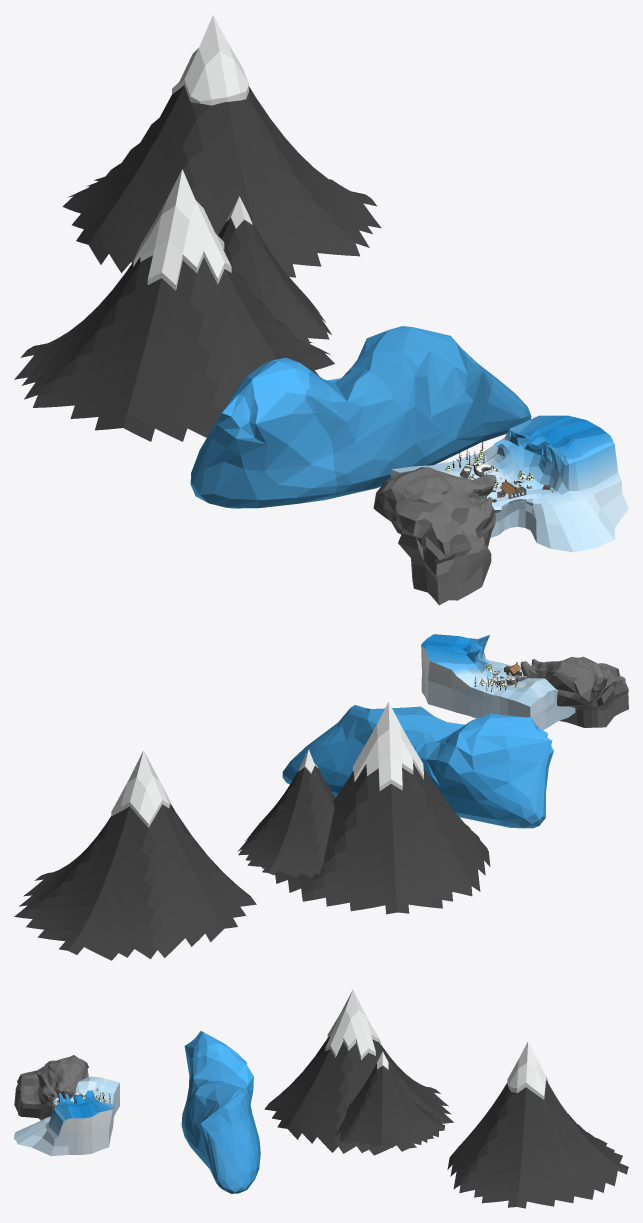
Rendered from SpawnRoom.obj.
The picture shows the model from 3 angles, top to bottom: view 1: azimuth 30°, elevation 25°; view 2: azimuth 150°, elevation 25°; view 3: azimuth 270°, elevation 25°; orthographic projection. The views are drawn at different scales.
Parts seen in each view (by area): view 1: Glacier_Cube.015, Mountain.002_Cube.014, Mountain_Cube.018, TerrainSnow_Level1.001, TerrainStone_Cube, Mountain.001_Cube.017; view 2: Mountain_Cube.018, Mountain.002_Cube.014, Glacier_Cube.015, TerrainSnow_Level1.001, Mountain.001_Cube.017, TerrainStone_Cube; view 3: Mountain_Cube.018, Mountain.002_Cube.014, Glacier_Cube.015, Mountain.001_Cube.017, TerrainSnow_Level1.001, TerrainStone_Cube.
Boxes of the visible parts, left/top/right/bottom form: Glacier_Cube.015: left=190, top=326, right=531, bottom=508; Mountain.002_Cube.014: left=14, top=169, right=334, bottom=441; Mountain_Cube.018: left=62, top=15, right=381, bottom=277; TerrainSnow_Level1.001: left=391, top=415, right=628, bottom=552; TerrainStone_Cube: left=373, top=467, right=496, bottom=605; Mountain.001_Cube.017: left=218, top=196, right=331, bottom=346; Mountain_Cube.018: left=14, top=750, right=256, bottom=960; Mountain.002_Cube.014: left=262, top=702, right=490, bottom=914; Glacier_Cube.015: left=282, top=705, right=553, bottom=828; TerrainSnow_Level1.001: left=421, top=634, right=575, bottom=729; Mountain.001_Cube.017: left=237, top=749, right=335, bottom=877; TerrainStone_Cube: left=520, top=656, right=628, bottom=727; Mountain_Cube.018: left=447, top=1041, right=628, bottom=1208; Mountain.002_Cube.014: left=264, top=990, right=453, bottom=1155; Glacier_Cube.015: left=181, top=1031, right=260, bottom=1193; Mountain.001_Cube.017: left=336, top=1051, right=444, bottom=1147; TerrainSnow_Level1.001: left=14, top=1076, right=119, bottom=1156; TerrainStone_Cube: left=14, top=1055, right=88, bottom=1120.
Bounding box in the file's own units: 264 × 129 × 516.
